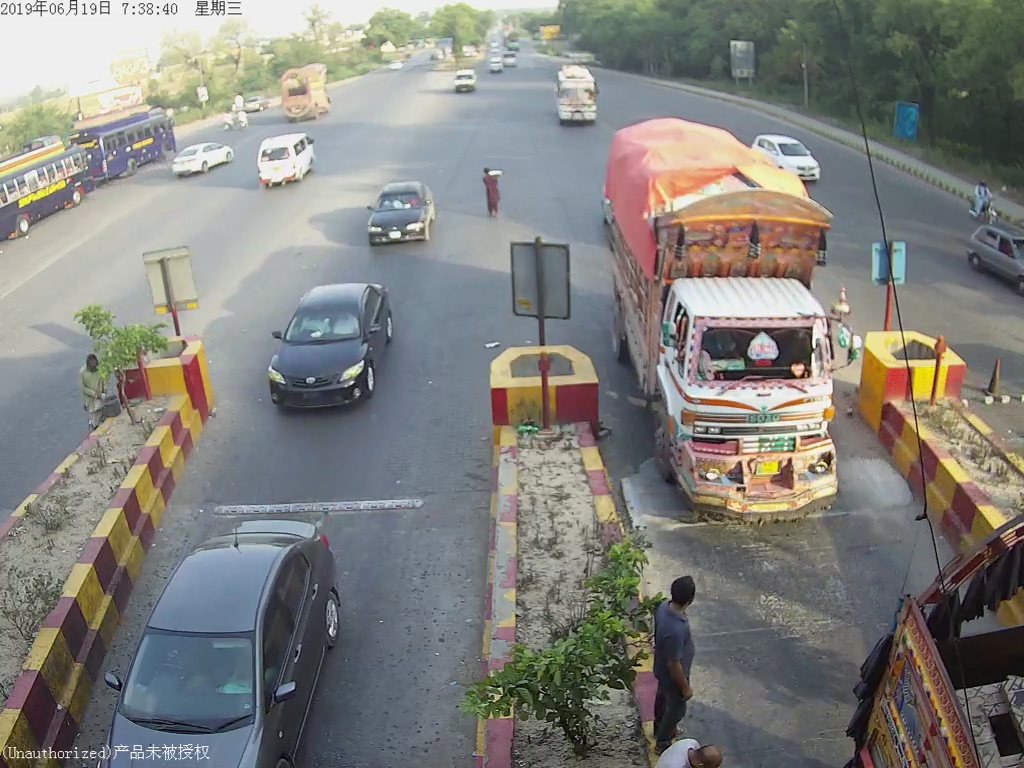Cat-1: (257, 280, 397, 403), (369, 173, 436, 249), (760, 126, 830, 182)
Cat-3: (552, 65, 601, 125)
Cat-4: (600, 119, 851, 508)
